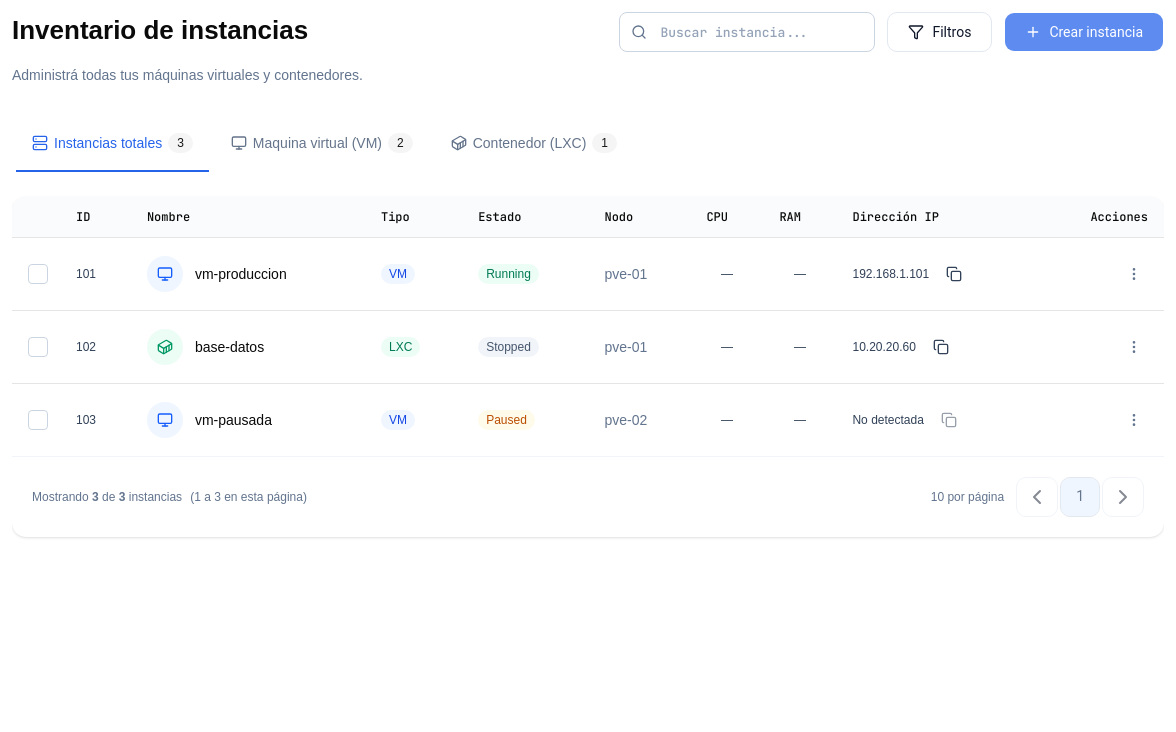
Test: Filtros del inventario de instancias › permite restablecer los filtros cuando no hay coincidencias
The image size is (1176, 732).
Expected: the link "vm-produccion" is shown, [195,264,287,284]
In the field named "Buscar por ID, nombre o IP": (747, 32) [619,12,875,52], type "sin-coincidencias"
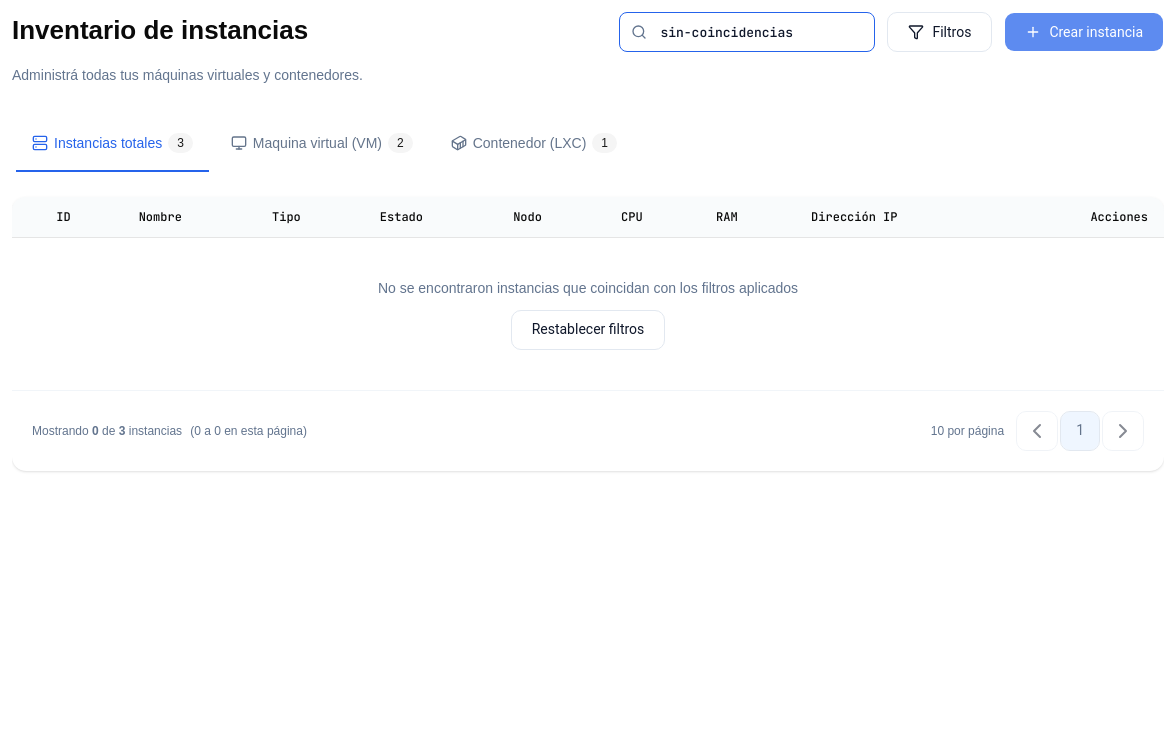
Now the text "No se encontraron instancias que coincidan con los filtros aplicados" is shown, box [378,278,798,298]
Click the button "Restablecer filtros": (588, 330) [511,310,665,350]
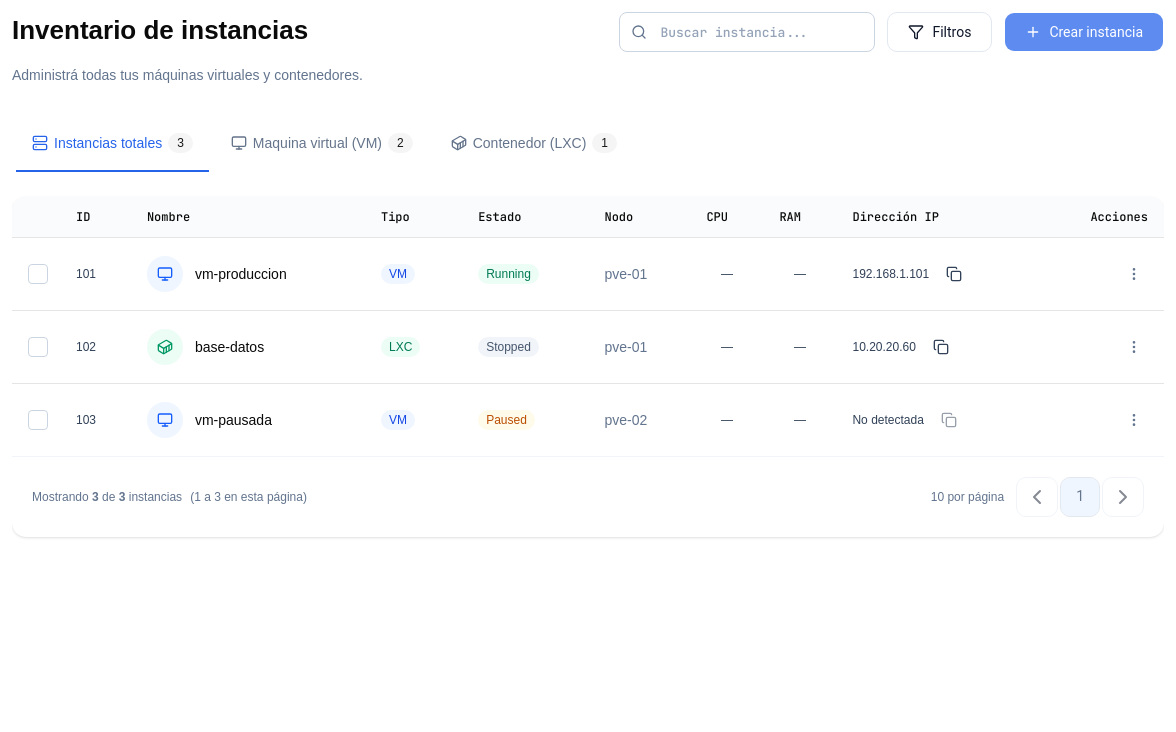
Now the link "vm-produccion" is shown, box [195,264,287,284]
Now the link "base-datos" is shown, box [195,337,264,357]
Now the link "vm-pausada" is shown, box [195,410,272,430]
